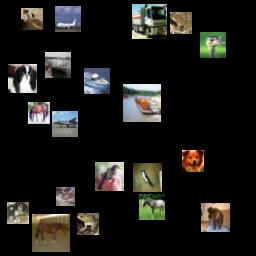airplane: (55, 6, 81, 32), (52, 111, 78, 137)
bird: (95, 162, 124, 191), (133, 163, 162, 192), (200, 32, 226, 58)
cat: (21, 8, 43, 30)
deer: (56, 187, 75, 206)
dog: (8, 64, 37, 93), (201, 203, 230, 232), (182, 150, 204, 172), (7, 202, 29, 224)
frog: (170, 12, 192, 34), (77, 213, 99, 235)
ship: (123, 84, 161, 122), (84, 68, 110, 94), (45, 52, 71, 78)
truck: (132, 4, 167, 39)
